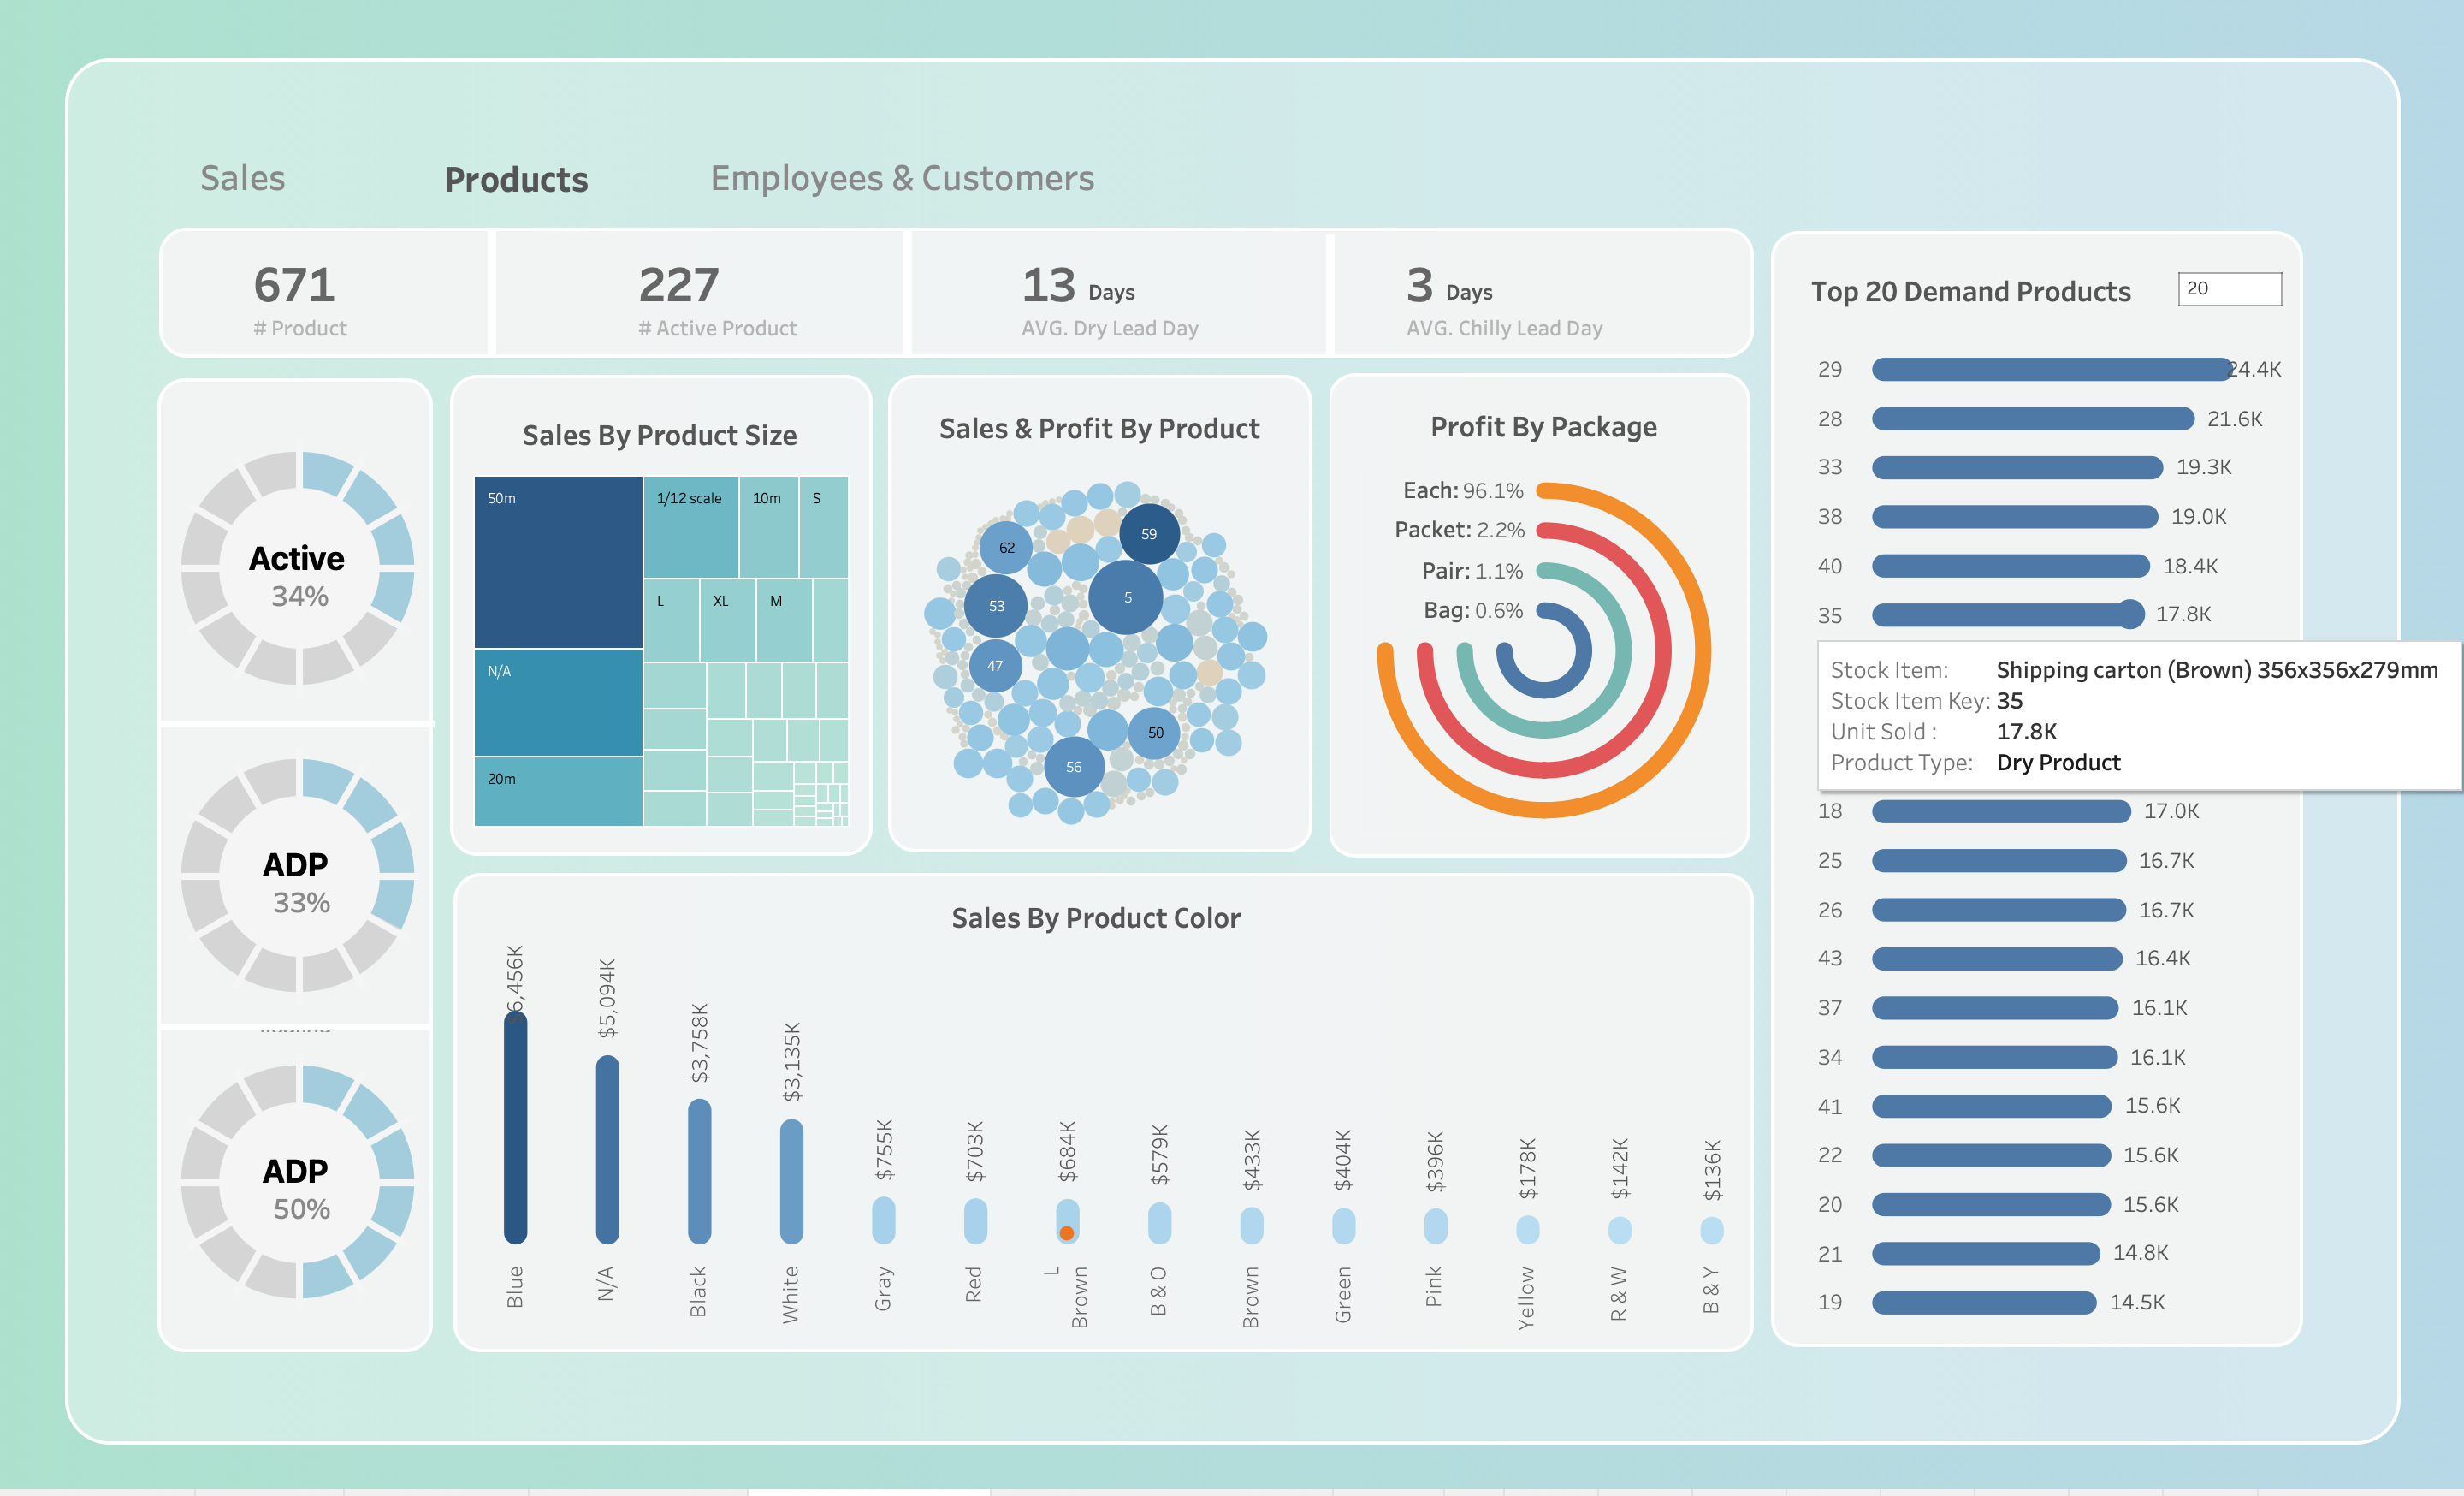

The page's visual inventory and layout, read from the dashboard file:
{"tool":"tableau","page":{"name":"Product Dashbours","canvas":[1000,1000],"units":"permille","ordinal":1},"visuals":[{"type":"worksheet","title":"Box","mark":"Automatic","box":[0,28.8,1000,975]},{"type":"dashboard-object","box":[25,81.2,125,66.2]},{"type":"text","box":[150,81.2,102.9,66.2]},{"type":"dashboard-object","box":[252.8,81.2,220.7,66.2]},{"type":"worksheet","title":"Box (4)","mark":"Automatic","box":[48.6,143.8,672.9,98.8]},{"type":"worksheet","title":"Box (2)","mark":"Automatic","box":[721.4,143.8,230,777.5]},{"type":"worksheet","title":"Product KPIs Matrix","mark":"Automatic","box":[88.6,151.2,642.1,91.2]},{"type":"text","box":[740,173.8,152.1,37.5]},{"type":"parameter","param":"[Parameters].[Parameter 2]","box":[892.9,175,47.9,31.2]},{"type":"worksheet","title":"Day text","mark":"Automatic","box":[437.1,181.2,36.4,22.5]},{"type":"worksheet","title":"Day text (2)","mark":"Automatic","box":[586.4,181.2,30,23.8]},{"type":"worksheet","title":"Most Demond Product","mark":"Line","rows":["Stock Item Key"],"box":[738.6,227.5,200,667.5]},{"type":"worksheet","title":"Box (5)","mark":"Automatic","box":[48.6,242.6,121.4,678.7]},{"type":"worksheet","title":"Box (7)","mark":"Automatic","box":[170,242.6,183.8,339.3]},{"type":"worksheet","title":"Box (6)","mark":"Automatic","box":[353.8,242.6,183.8,339.3]},{"type":"worksheet","title":"Box (3)","mark":"Automatic","box":[537.6,242.6,183.8,339.3]},{"type":"text","box":[542.9,266.2,175,35]},{"type":"text","box":[356.4,267.5,177.1,35]},{"type":"text","box":[174.3,271.2,174.3,37.5]},{"type":"worksheet","title":"AP","mark":"Pie","cols":["Calculation_0742859063345158","Calculation_0742859063357448"],"box":[56.4,275.6,107.1,209.3]},{"type":"worksheet","title":"Sales By Product2","mark":"Circle","box":[370.7,298.8,144.3,277.5]},{"type":"worksheet","title":"Package Radial shap","mark":"Line","box":[553.6,310,152.9,250]},{"type":"worksheet","title":"Sales By Size","mark":"Automatic","box":[180.7,312.5,162.1,247.5]},{"type":"worksheet","title":"ADP","mark":"Pie","cols":["Calculation_0742859063345158","Calculation_0742859063357448"],"box":[56.4,484.9,107.1,208.1]},{"type":"worksheet","title":"Box (8)","mark":"Automatic","box":[170,581.9,551.4,339.3]},{"type":"text","box":[356.4,598.8,174.3,37.5]},{"type":"worksheet","title":"Sales By Color","mark":"Line","rows":["Profit"],"cols":["Color"],"box":[181.4,635,537.9,267.5]},{"type":"worksheet","title":"ACP","mark":"Pie","cols":["Calculation_0742859063345158","Calculation_0742859063357448"],"box":[56.4,693,107.1,208.1]}]}

Visuals, with their boxes on the dashboard's canvas, which has no fixed pixel size, in thousandths of its width and height (x1, y1, x2, y2). These are canvas units, not pixel positions in the 2464x1496 screenshot, which may show the page scaled, cropped or inside an application window:
"Box" worksheet: detection(0, 29, 1000, 1004)
dashboard-object: detection(25, 81, 150, 147)
text: detection(150, 81, 253, 147)
dashboard-object: detection(253, 81, 474, 147)
"Box (4)" worksheet: detection(49, 144, 722, 243)
"Box (2)" worksheet: detection(721, 144, 951, 921)
"Product KPIs Matrix" worksheet: detection(89, 151, 731, 242)
text: detection(740, 174, 892, 211)
parameter: detection(893, 175, 941, 206)
"Day text" worksheet: detection(437, 181, 474, 204)
"Day text (2)" worksheet: detection(586, 181, 616, 205)
"Most Demond Product" worksheet (Line marks): detection(739, 228, 939, 895)
"Box (5)" worksheet: detection(49, 243, 170, 921)
"Box (7)" worksheet: detection(170, 243, 354, 582)
"Box (6)" worksheet: detection(354, 243, 538, 582)
"Box (3)" worksheet: detection(538, 243, 721, 582)
text: detection(543, 266, 718, 301)
text: detection(356, 268, 534, 302)
text: detection(174, 271, 349, 309)
"AP" worksheet (Pie marks): detection(56, 276, 164, 485)
"Sales By Product2" worksheet (Circle marks): detection(371, 299, 515, 576)
"Package Radial shap" worksheet (Line marks): detection(554, 310, 706, 560)
"Sales By Size" worksheet: detection(181, 312, 343, 560)
"ADP" worksheet (Pie marks): detection(56, 485, 164, 693)
"Box (8)" worksheet: detection(170, 582, 721, 921)
text: detection(356, 599, 531, 636)
"Sales By Color" worksheet (Line marks): detection(181, 635, 719, 902)
"ACP" worksheet (Pie marks): detection(56, 693, 164, 901)
